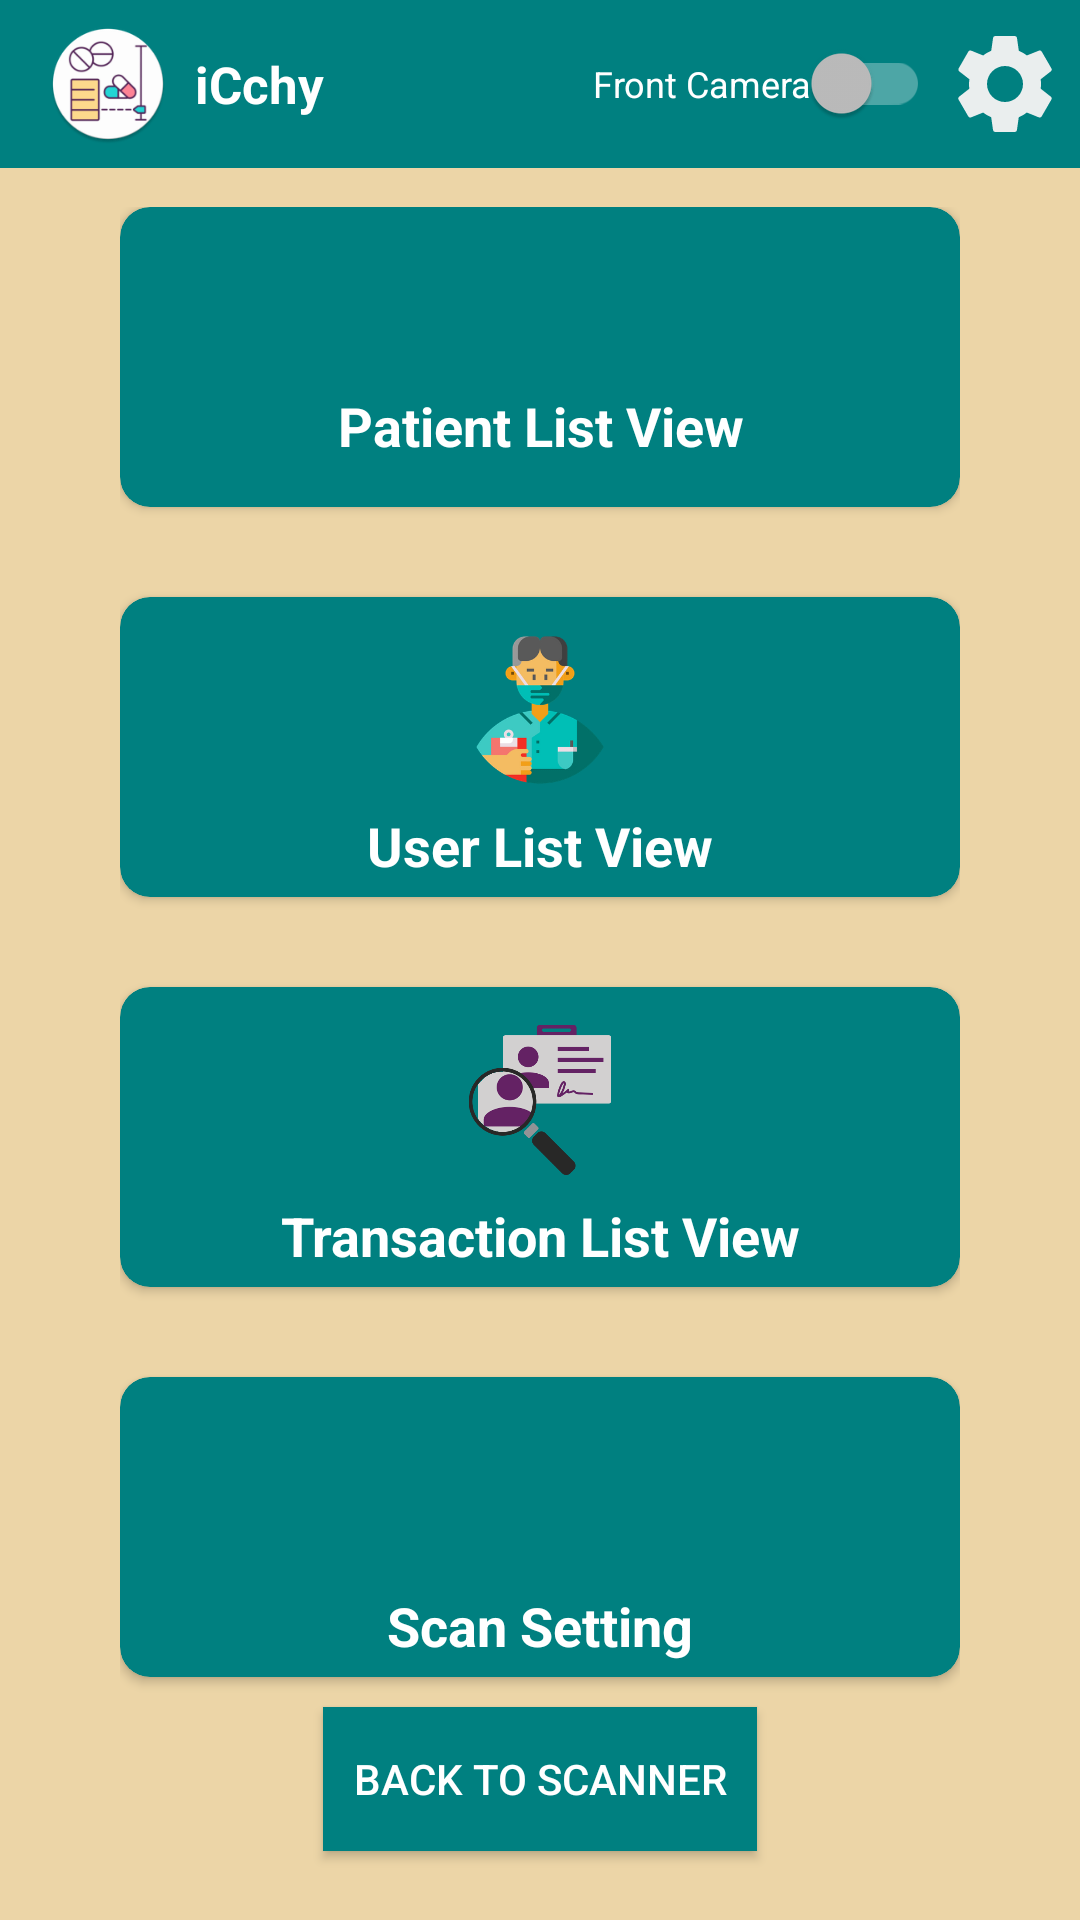

Icons on this 1080 × 1920 Android screen, each with the point to tap as point (x, y):
nurse: point (539, 709)
settings: point (1005, 84)
verify patient: point (540, 1100)
